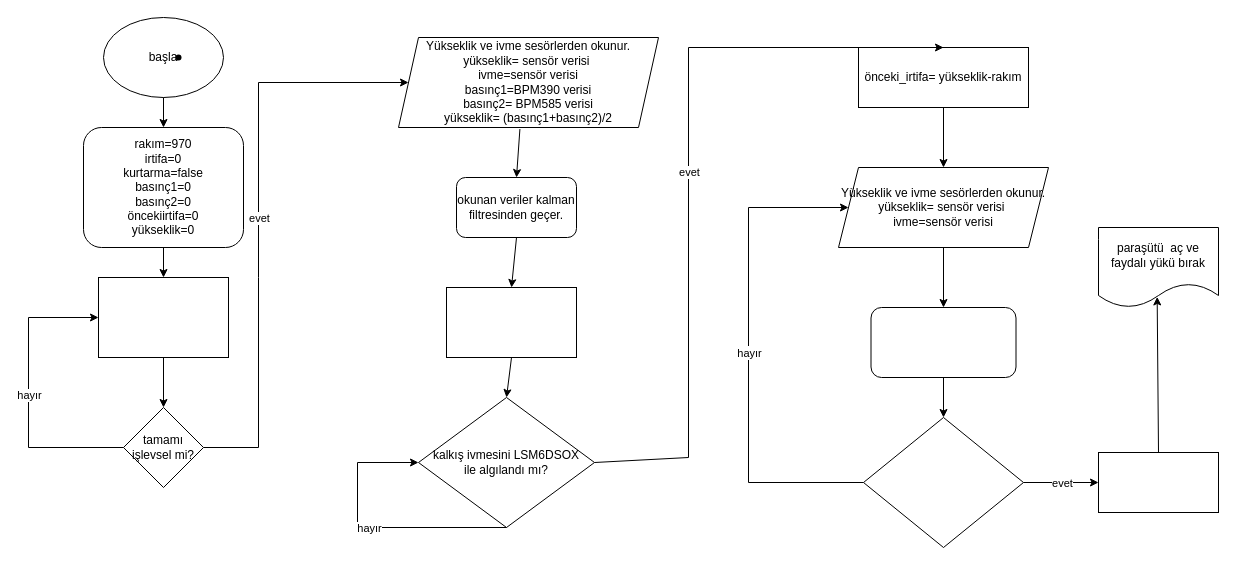
Some shapes in this 1236 by 565 pixel diagram are drawn without their labels. The shapes that lost their labels are listed below. From the top down, each one's centre as x and y in pixels, then its label:
(x=163, y=317): Sensörleri başlat (BNO055, BMP390, BPM585 GNSS). SD kartı ve LoRa'yı kontrol et.
(x=511, y=322): Ebyte E22-900T30S LoRa modülü ile verileri yer istasyonuna yolla VE SD karta yaz
(x=943, y=342): okunan veriler kalman filtresinden geçer. irtifa=yükseklik-rakım
(x=943, y=482): ivme<0 mı?&& irtifa< önceki_irtifa
(x=1158, y=482): kurtarma=True
